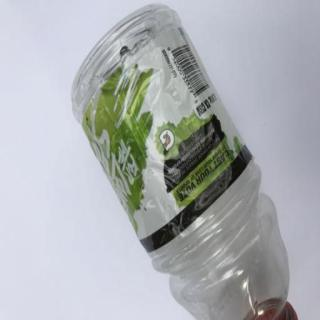Plastic-bottle: (70, 2, 302, 320)
